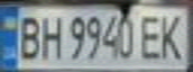0: (115, 11, 139, 61)
4: (103, 11, 121, 60)
9: (81, 11, 106, 61), (63, 11, 87, 61)
B: (12, 11, 45, 61)
E: (136, 11, 166, 61)
H: (36, 11, 63, 61)
K: (154, 10, 187, 61)
